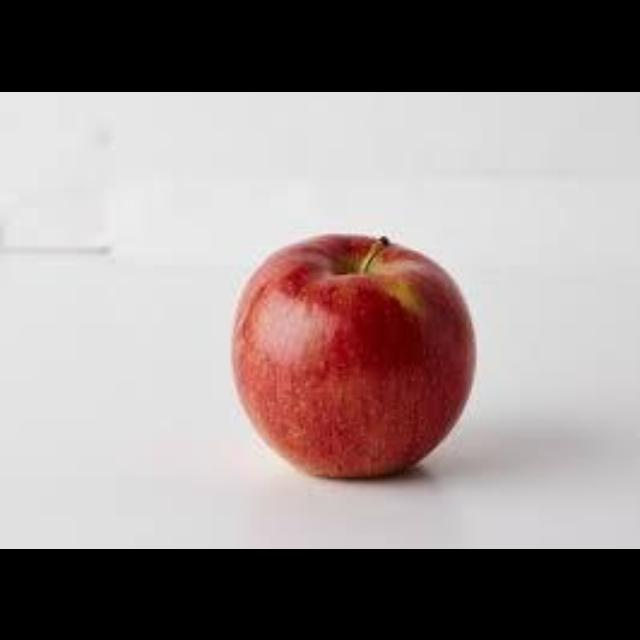apple: (233, 233, 474, 474)
